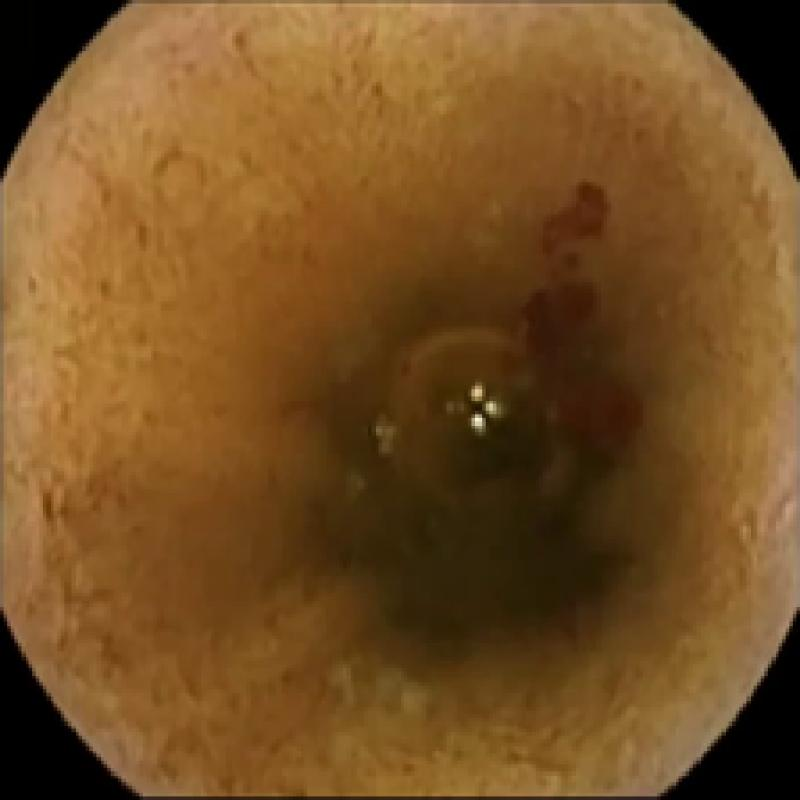bleeding: (522, 186, 640, 443)
